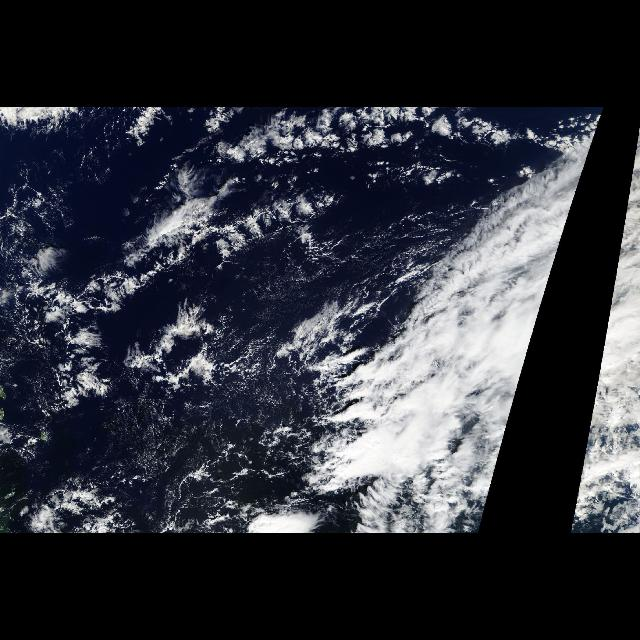Fish: (31, 107, 478, 419)
Gravel: (108, 366, 358, 526)
